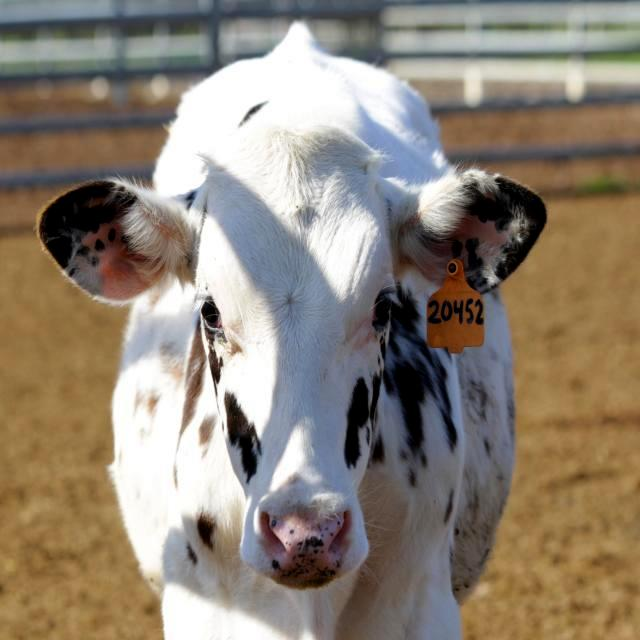COW: (38, 23, 546, 637)
